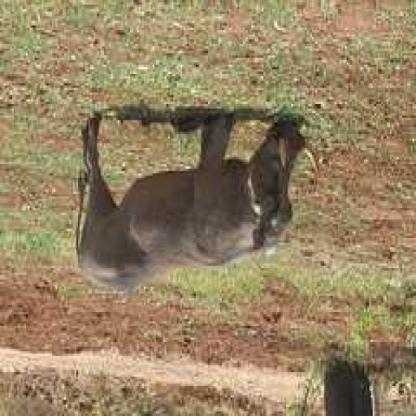boar: (57, 101, 334, 344)
